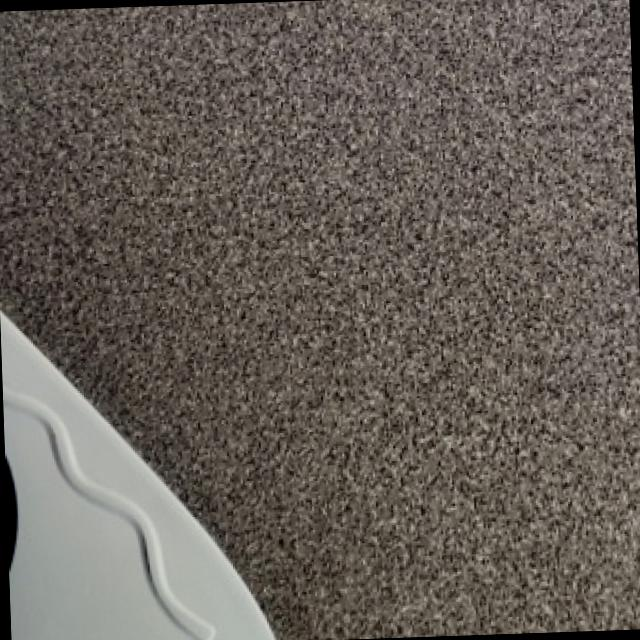healthy: (0, 7, 327, 639)
